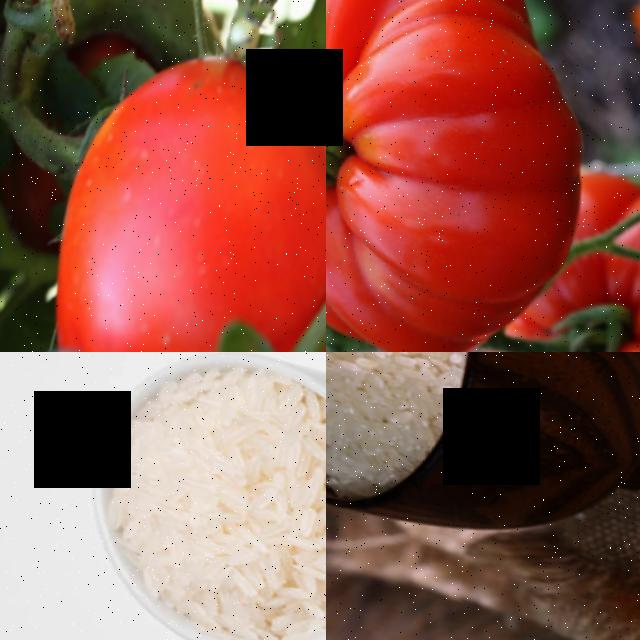tomato: (326, 0, 615, 352)
white rice: (92, 352, 326, 640), (326, 352, 475, 503)
